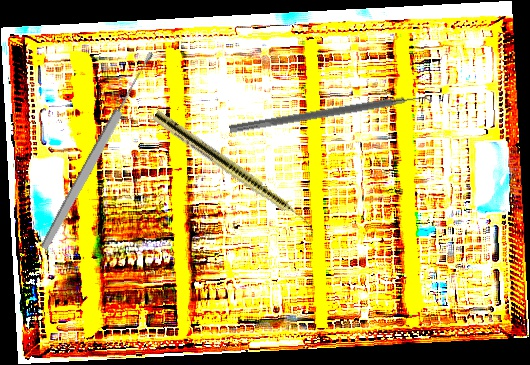Handpiece: (150, 109, 319, 234)
Spatula Surgical: (228, 89, 434, 143)
Surgical Spoon: (38, 49, 158, 252)
